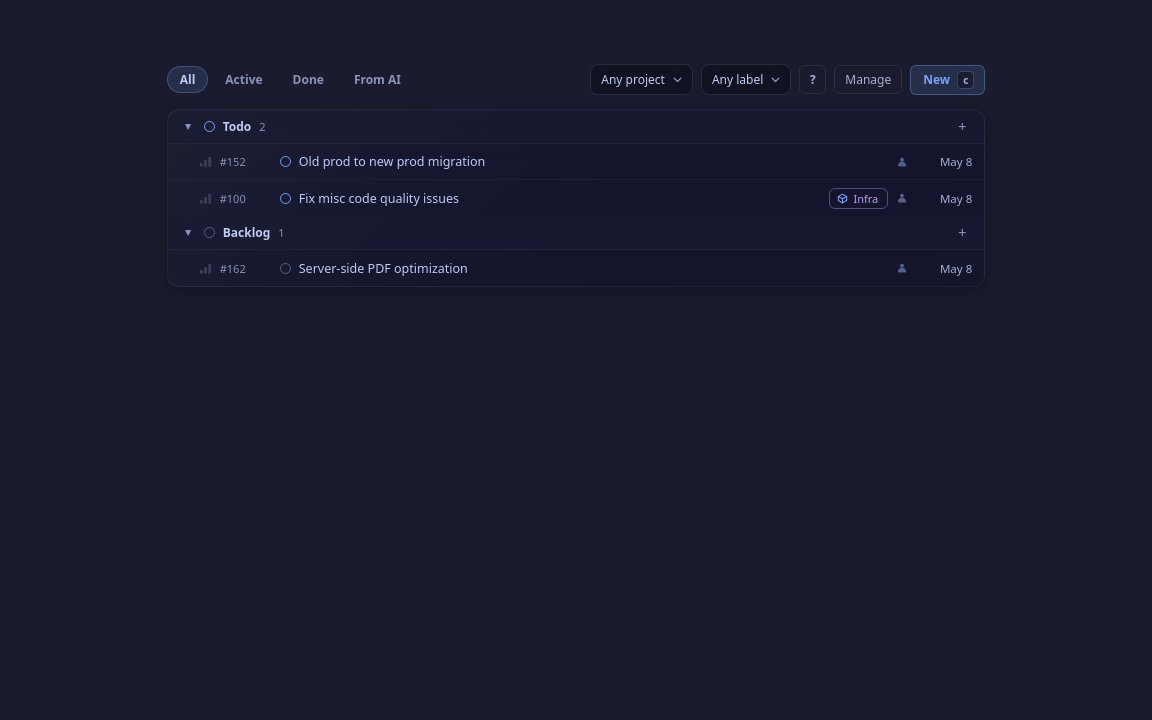
Scenario: TodosPage create shortcut › a group's + opens the dialog preset to that group's state
Expected: the text "Old prod to new prod migration" is shown, 299,153 -> 485,170
Click the button named "Add todo to Backlog": (962, 232) 952,222 -> 972,242
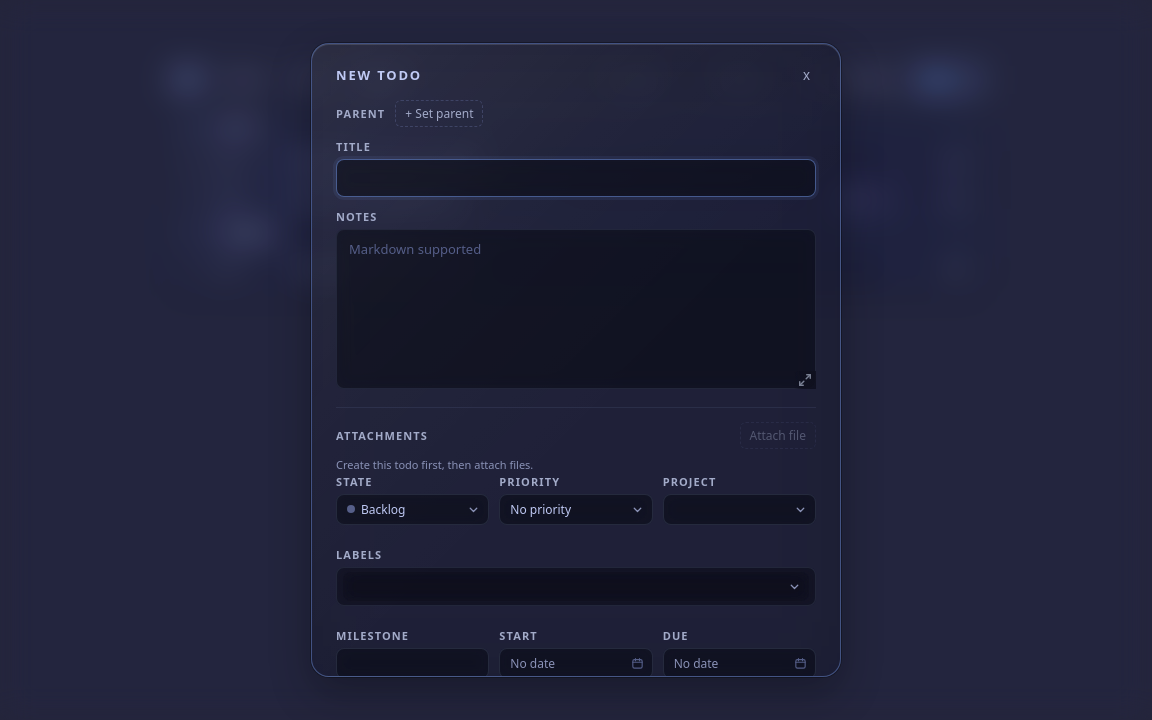
Expected: the dropdown named "State" reads "Backlog", 336,494 -> 489,525
